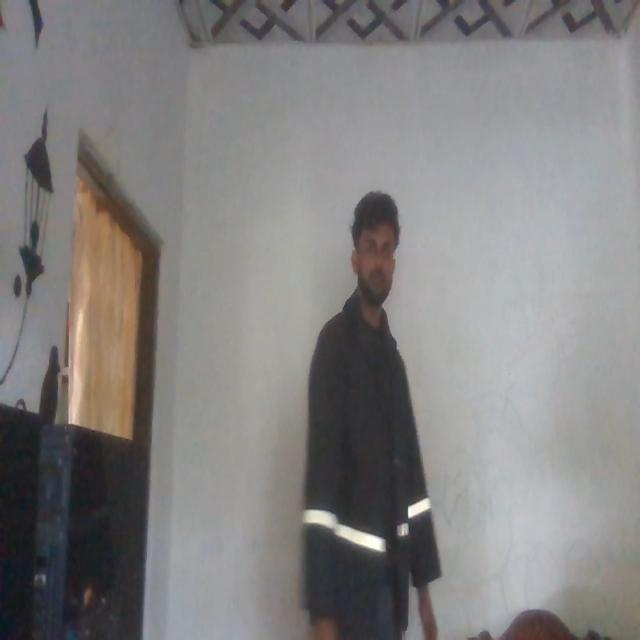Jacket_Wearer: (302, 275, 429, 630)
Person: (297, 174, 439, 640)
